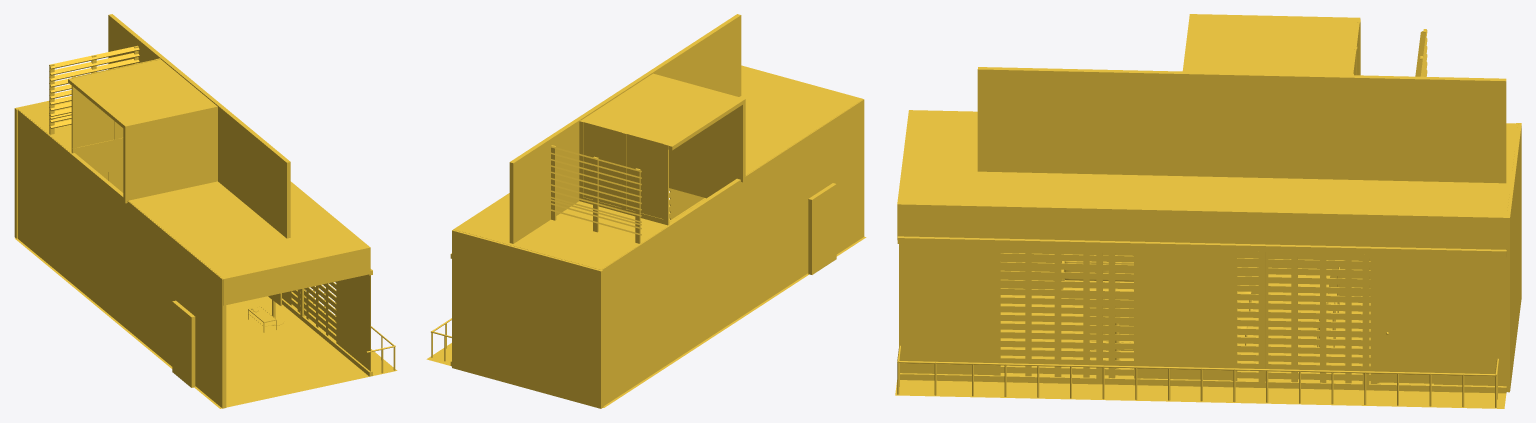
The model's file is Interior_CAD_Interactive.glb.
3 renders of one model, left to right at view 1: azimuth 30°, elevation 25°; view 2: azimuth 150°, elevation 25°; view 3: azimuth 270°, elevation 25°, orthographic. The views are drawn at different scales.
Parts seen in each view (by area): view 1: Product; view 2: Product; view 3: Product.
Boxes of the visible parts, bbox=[...] form: Product: bbox=[14, 14, 397, 408]; Product: bbox=[426, 14, 866, 408]; Product: bbox=[895, 14, 1521, 408].
Size of the model in its own units: 0.9781 by 1.01 by 2.04.
